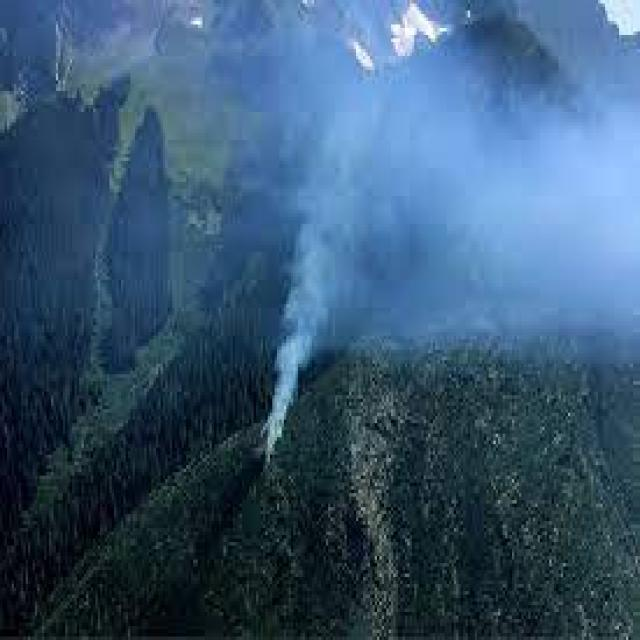Smoke: (282, 62, 632, 360), (246, 199, 354, 462)
